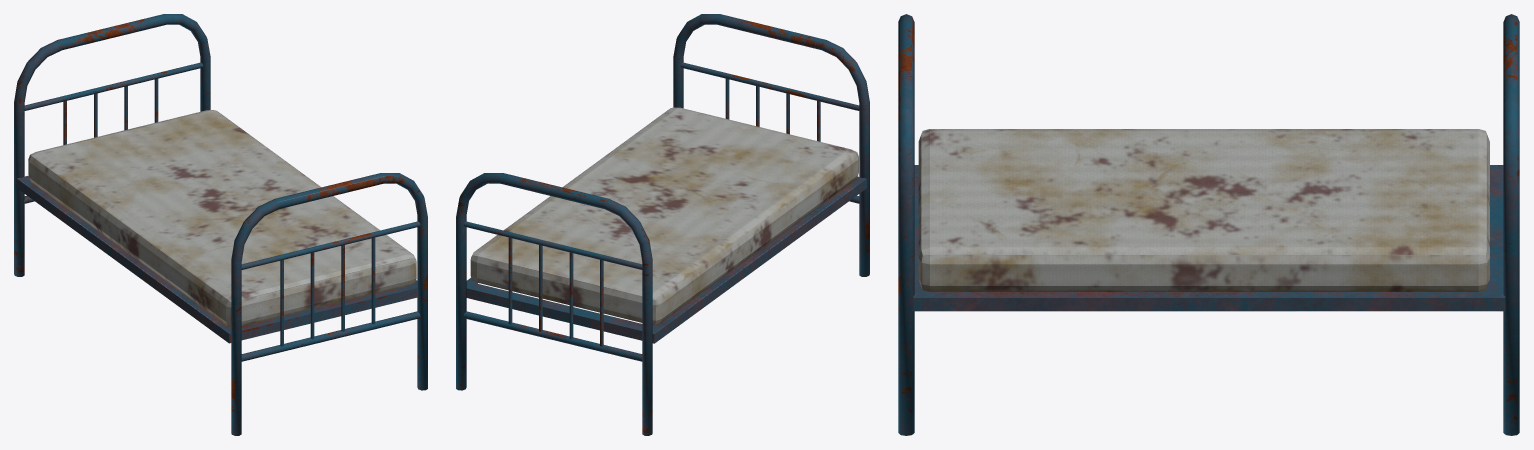
The model's file is bed.obj.
3 views of the same model, side by side, from view 1: azimuth 30°, elevation 25°; view 2: azimuth 150°, elevation 25°; view 3: azimuth 270°, elevation 25° (orthographic). The views are drawn at different scales.
Visible parts, largest first — view 1: Low_0; view 2: Low_0; view 3: Low_0.
Part boxes in pixels (x1,y1,x2,y2): Low_0: (14,14,427,435); Low_0: (456,14,869,435); Low_0: (898,14,1519,435).
Size of the model in its own units: 1.86 by 2.05 by 3.68.
Materials: 1 (1 with a texture image).
